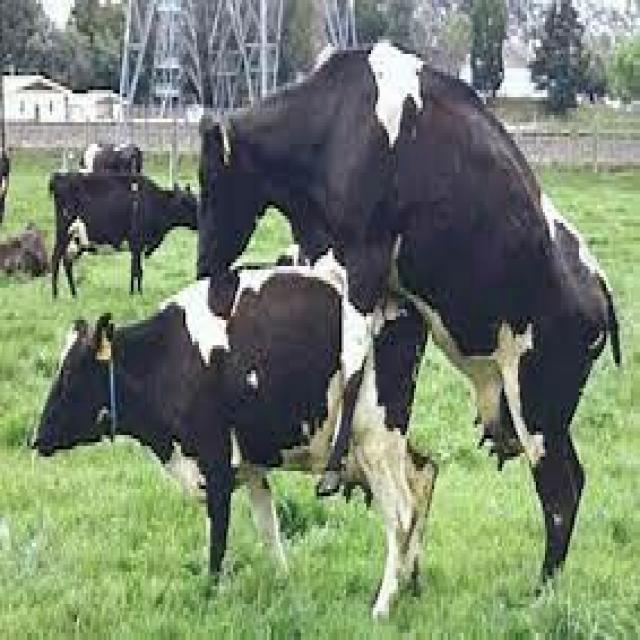cow: (200, 42, 616, 573), (35, 251, 435, 617)
